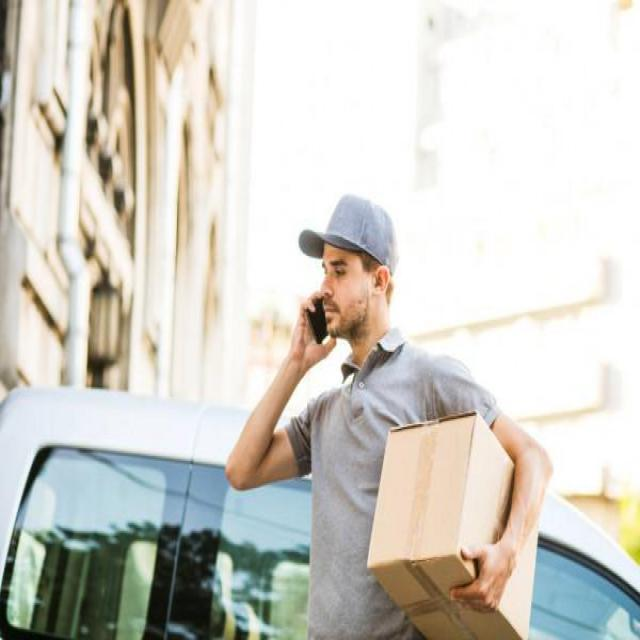box: (369, 415, 532, 640)
